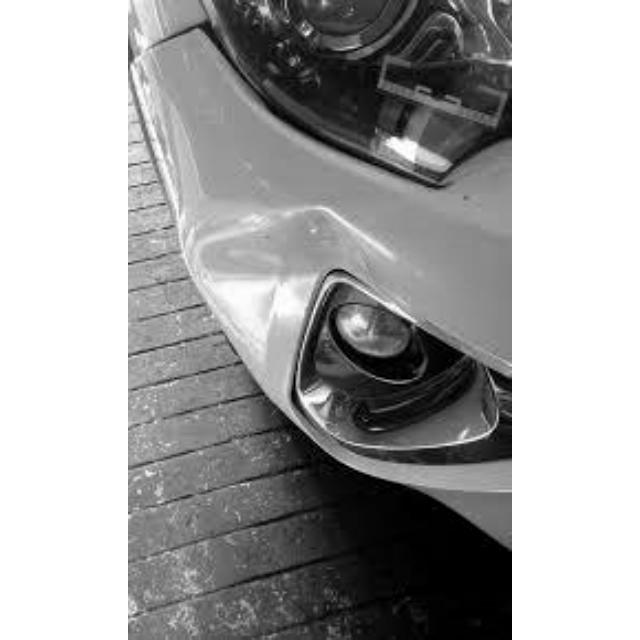front-bumper-dent: (129, 87, 510, 510)
